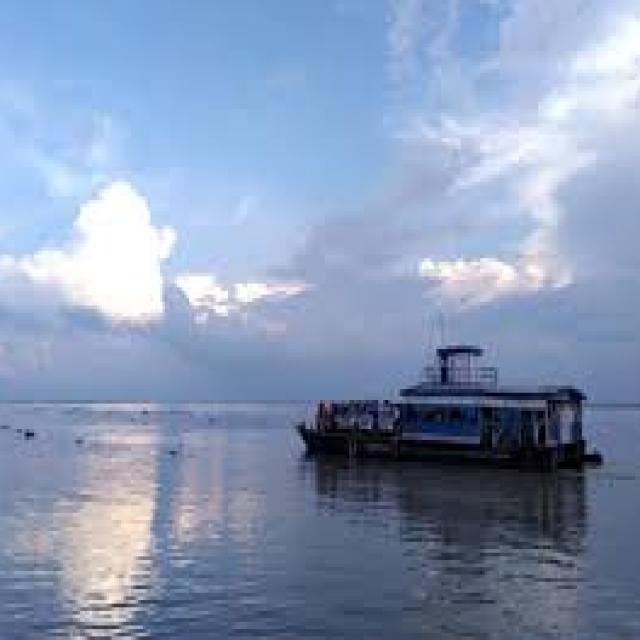fishing boat: (295, 336, 591, 472)
